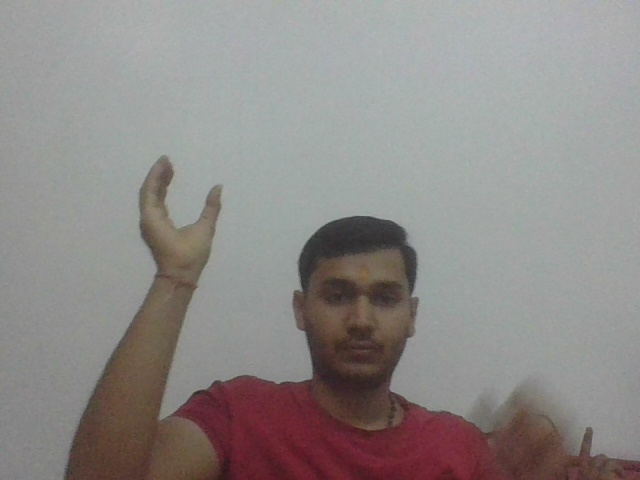U: (133, 156, 231, 266)
